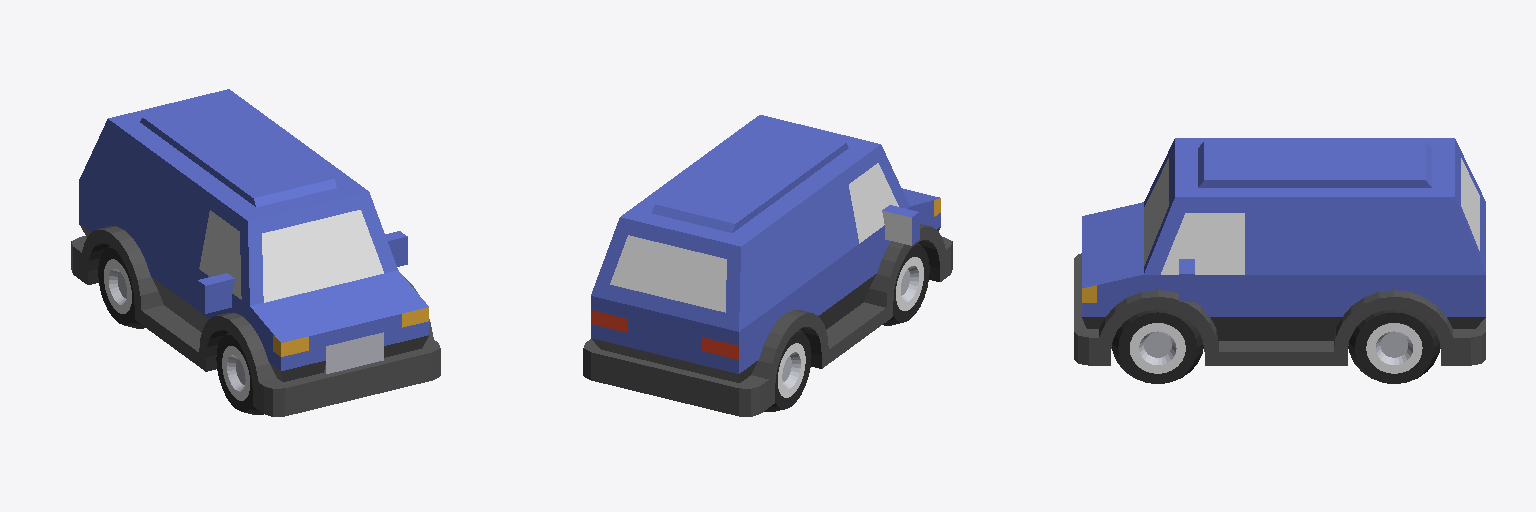
Rendered from van.obj.
3 renders of one model, left to right at view 1: azimuth 30°, elevation 25°; view 2: azimuth 150°, elevation 25°; view 3: azimuth 270°, elevation 25°, orthographic.
Visible parts, largest first — view 1: body, wheel_backRight, wheel_frontRight; view 2: body, wheel_frontRight, wheel_backRight; view 3: body, wheel_frontLeft, wheel_backLeft.
Boxes of the visible parts, x1=… form: body: x1=71, y1=89, x2=440, y2=416; wheel_backRight: x1=98, y1=246, x2=144, y2=328; wheel_frontRight: x1=216, y1=332, x2=263, y2=414; body: x1=583, y1=115, x2=952, y2=416; wheel_frontRight: x1=883, y1=243, x2=929, y2=325; wheel_backRight: x1=764, y1=329, x2=810, y2=411; body: x1=1074, y1=138, x2=1485, y2=365; wheel_frontLeft: x1=1112, y1=309, x2=1203, y2=383; wheel_backLeft: x1=1348, y1=309, x2=1439, y2=383.
Size of the model in its own units: 1.5 by 1.35 by 2.65.